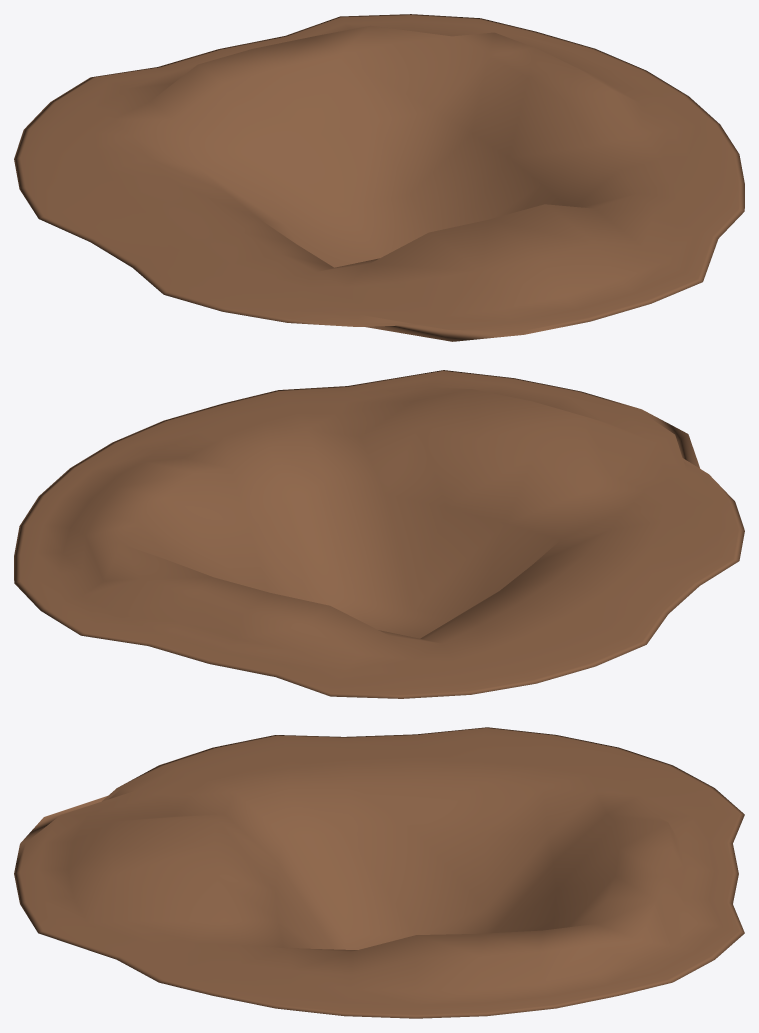
File: pit.fbx
3 views of the same model, one above another, from view 1: azimuth 30°, elevation 25°; view 2: azimuth 150°, elevation 25°; view 3: azimuth 270°, elevation 25° (orthographic). The views are drawn at different scales.
Parts seen in each view (by area): view 1: pCube1; view 2: pCube1; view 3: pCube1.
Boxes of the visible parts, x1=… form: pCube1: x1=14, y1=14, x2=744, y2=341; pCube1: x1=14, y1=370, x2=744, y2=698; pCube1: x1=14, y1=727, x2=744, y2=1018.
Bounding box in the file's own units: 14.58 × 3.11 × 15.46.
